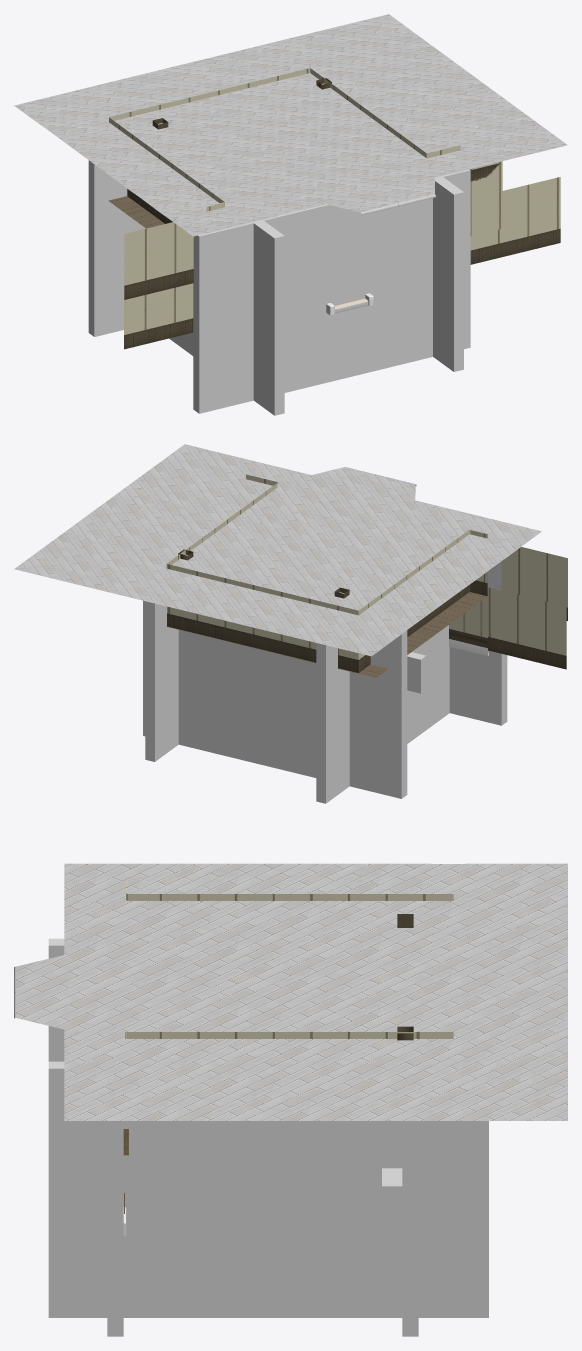
The model's file is labo.glb.
3 views of the same model, one above another, from view 1: azimuth 30°, elevation 25°; view 2: azimuth 150°, elevation 25°; view 3: azimuth 270°, elevation 25° (orthographic). The views are drawn at different scales.
Visible parts, largest first — view 1: toit, mur_sud_colli, mur_ouest_colli, mur_nord_colli, mur_est_colli, wall1_1.004, wall1_1.002, wall1_1.001, wall1_1, e8a0774eee2501055df68dff, wall1_1.003, wall1_1.005 (+1 smaller); view 2: toit, mur_nord_colli, mur_ouest_colli, wall1_1, wall1_1.001, mur_est_colli, mur_sud_colli, wall1_1.002, e8a0774eee2501055df68dff, floor02, aeration_colli; view 3: toit, mur_est_colli, e8a0774eee2501055df68dff, mur_sud_colli, mur_nord_colli, biblio_3_colli, mur_ouest_colli, abe52ab88bd27e11161e5d0.
Part boxes in pixels (x1,y1,x2,y2): toit: (14,14,567,236); mur_sud_colli: (193,169,470,413); mur_ouest_colli: (169,220,284,415); mur_nord_colli: (88,160,145,336); mur_est_colli: (433,176,463,371); wall1_1.004: (470,177,560,264); wall1_1.002: (124,222,193,299); wall1_1.001: (124,283,193,349); wall1_1: (109,68,328,223); e8a0774eee2501055df68dff: (109,82,460,202); wall1_1.003: (469,161,502,215); wall1_1.005: (470,163,502,236); toit: (14,444,541,656); mur_nord_colli: (143,600,407,798); mur_ouest_colli: (316,625,449,803); wall1_1: (166,529,487,672); wall1_1.001: (449,587,566,669); mur_est_colli: (145,601,178,761); mur_sud_colli: (449,561,507,725); wall1_1.002: (501,547,567,620); e8a0774eee2501055df68dff: (184,474,487,659); floor02: (166,592,487,677); aeration_colli: (407,652,426,693); toit: (14,863,567,1120); mur_est_colli: (48,1061,488,1317); e8a0774eee2501055df68dff: (125,894,453,1039); mur_sud_colli: (107,1121,123,1336); mur_nord_colli: (402,1121,418,1336); biblio_3_colli: (382,1168,402,1235); mur_ouest_colli: (48,938,64,1061); abe52ab88bd27e11161e5d0: (123,914,413,1155).
Bounding box in the file's own units: 2580 × 1120 × 2013.
71 materials, 64 textured.
